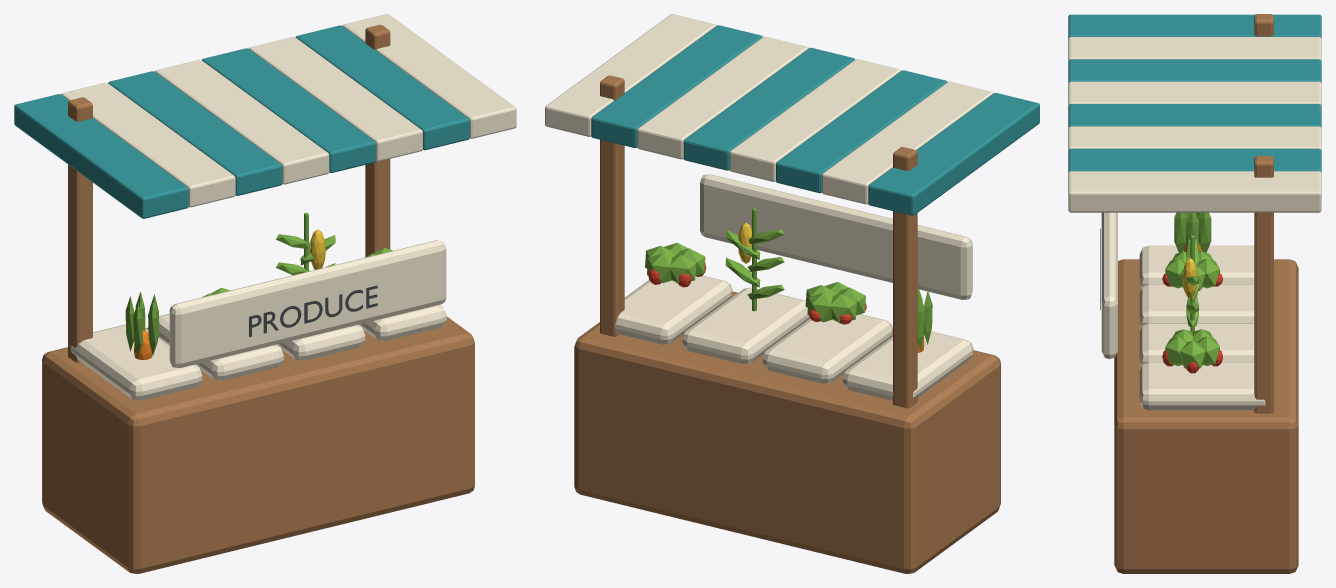
File: produce-stall.glb
3 renders of one model, left to right at view 1: azimuth 30°, elevation 25°; view 2: azimuth 150°, elevation 25°; view 3: azimuth 270°, elevation 25°, orthographic. The views are drawn at different scales.
Parts seen in each view (by area): view 1: stall_base, sign_board, stall_awning_panel, stall_awning_panel.002, stall_awning_panel.003, stall_awning_panel.005, stall_awning_panel.004, stall_awning_panel.006, stall_awning_panel.001, stall_awning_panel.007, stall_tray, stall_post (+5 smaller); view 2: stall_base, sign_board, stall_awning_panel, stall_awning_panel.005, stall_awning_panel.004, stall_awning_panel.003, stall_awning_panel.006, stall_awning_panel.002, stall_awning_panel.001, stall_awning_panel.007, stall_tray.002, stall_tray.001 (+4 smaller); view 3: stall_base, stall_awning_panel.007, stall_awning_panel.005, stall_awning_panel.001, stall_awning_panel.002, stall_awning_panel.003, stall_awning_panel.004, stall_awning_panel.006, stall_awning_panel, stall_tray.003, stall_post.001, stall_tray.001 (+13 smaller).
Boxes of the visible parts, x1,y1,x2,y2 form: stall_base: [42, 316, 474, 573]; sign_board: [169, 240, 446, 367]; stall_awning_panel: [14, 94, 188, 218]; stall_awning_panel.002: [108, 71, 282, 195]; stall_awning_panel.003: [155, 59, 329, 184]; stall_awning_panel.005: [249, 37, 422, 161]; stall_awning_panel.004: [202, 48, 375, 172]; stall_awning_panel.006: [295, 25, 469, 150]; stall_awning_panel.001: [61, 82, 235, 207]; stall_awning_panel.007: [342, 14, 516, 138]; stall_tray: [71, 324, 202, 400]; stall_post: [68, 97, 92, 362]; stall_base: [574, 291, 1000, 573]; sign_board: [700, 174, 972, 299]; stall_awning_panel: [868, 93, 1039, 215]; stall_awning_panel.005: [637, 36, 808, 159]; stall_awning_panel.004: [683, 47, 854, 170]; stall_awning_panel.003: [729, 59, 901, 181]; stall_awning_panel.006: [591, 25, 762, 148]; stall_awning_panel.002: [776, 70, 947, 193]; stall_awning_panel.001: [822, 81, 993, 204]; stall_awning_panel.007: [545, 14, 716, 136]; stall_tray.002: [682, 287, 809, 364]; stall_tray.001: [762, 314, 892, 383]; stall_base: [1114, 259, 1298, 573]; stall_awning_panel.007: [1068, 171, 1321, 212]; stall_awning_panel.005: [1068, 126, 1321, 150]; stall_awning_panel.001: [1068, 37, 1321, 60]; stall_awning_panel.002: [1068, 59, 1321, 83]; stall_awning_panel.003: [1068, 81, 1321, 105]; stall_awning_panel.004: [1068, 104, 1321, 127]; stall_awning_panel.006: [1068, 148, 1321, 172]; stall_awning_panel: [1068, 14, 1321, 38]; stall_tray.003: [1139, 362, 1265, 410]; stall_post.001: [1254, 156, 1273, 413]; stall_tray.001: [1139, 284, 1254, 327].
Bounding box in the file's own units: 1.84 × 1.95 × 1.1.
